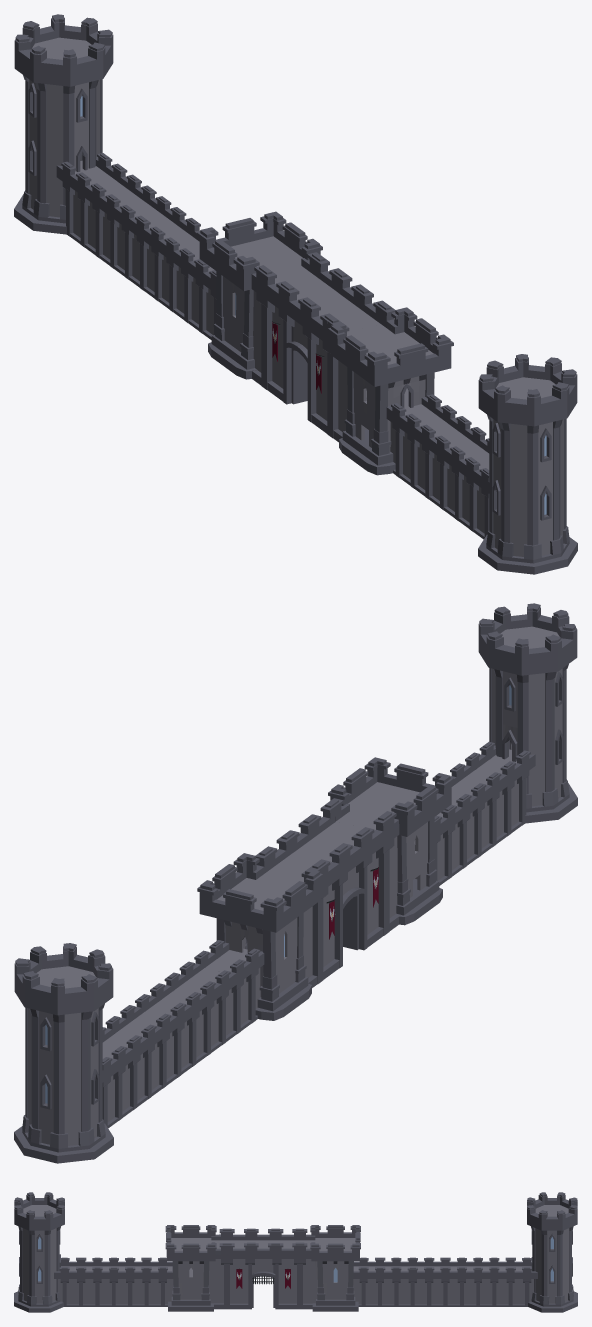
Rendered from BudowanieZAMKU.fbx.
3 views of the same model, one above another, from view 1: azimuth 30°, elevation 25°; view 2: azimuth 150°, elevation 25°; view 3: azimuth 270°, elevation 25° (orthographic). The views are drawn at different scales.
Visible parts, largest first — view 1: Cube; view 2: Cube; view 3: Cube.
Boxes of the visible parts, x1,y1,x2,y2 form: Cube: (14, 14, 577, 574); Cube: (14, 603, 577, 1163); Cube: (14, 1192, 577, 1312).
Bounding box in the file's own units: 1102 × 2340 × 12074.
